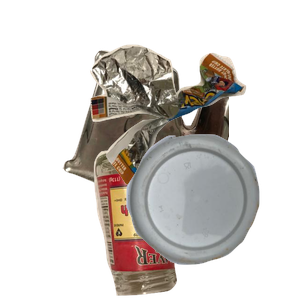glass: (91, 142, 260, 300)
metal: (60, 47, 300, 227)
plastic: (124, 132, 300, 300)
trash: (88, 42, 300, 219)
